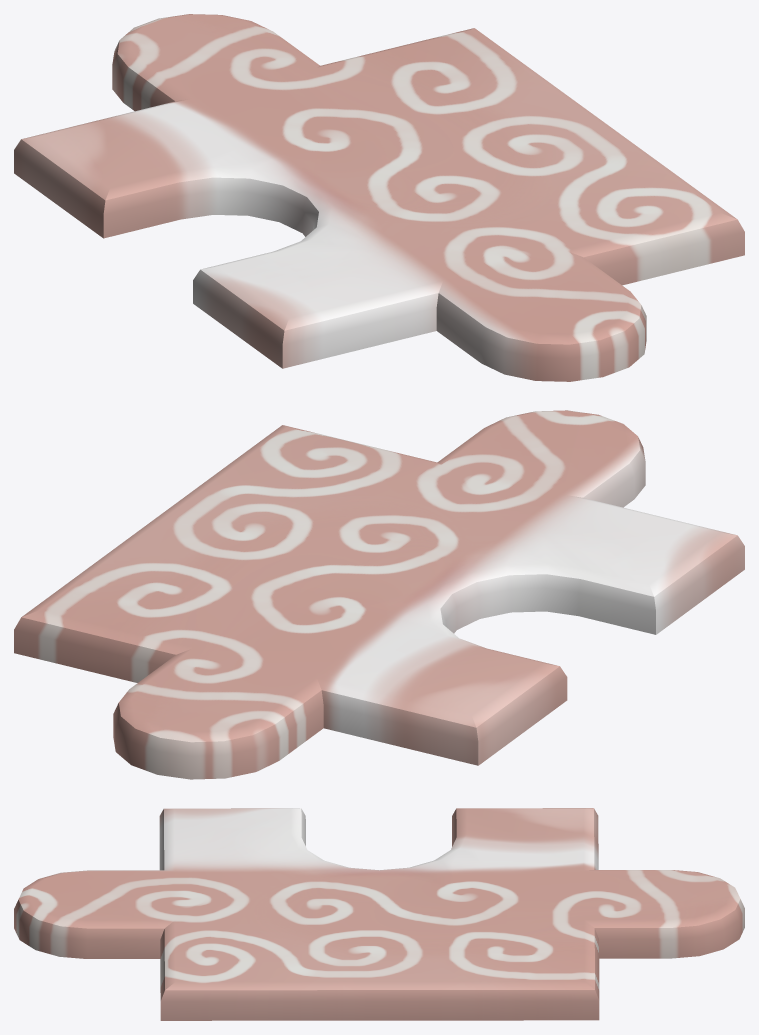
Rendered from puzzle6.fbx.
3 renders of one model, top to bottom at view 1: azimuth 30°, elevation 25°; view 2: azimuth 150°, elevation 25°; view 3: azimuth 270°, elevation 25°, orthographic. The views are drawn at different scales.
Parts seen in each view (by area): view 1: polySurface4; view 2: polySurface4; view 3: polySurface4.
Part boxes in pixels (x1,y1,x2,y2): polySurface4: (14,14,744,381); polySurface4: (14,410,744,779); polySurface4: (14,808,744,1020).
Bounding box in the file's own units: 1 × 0.0821 × 1.67.
